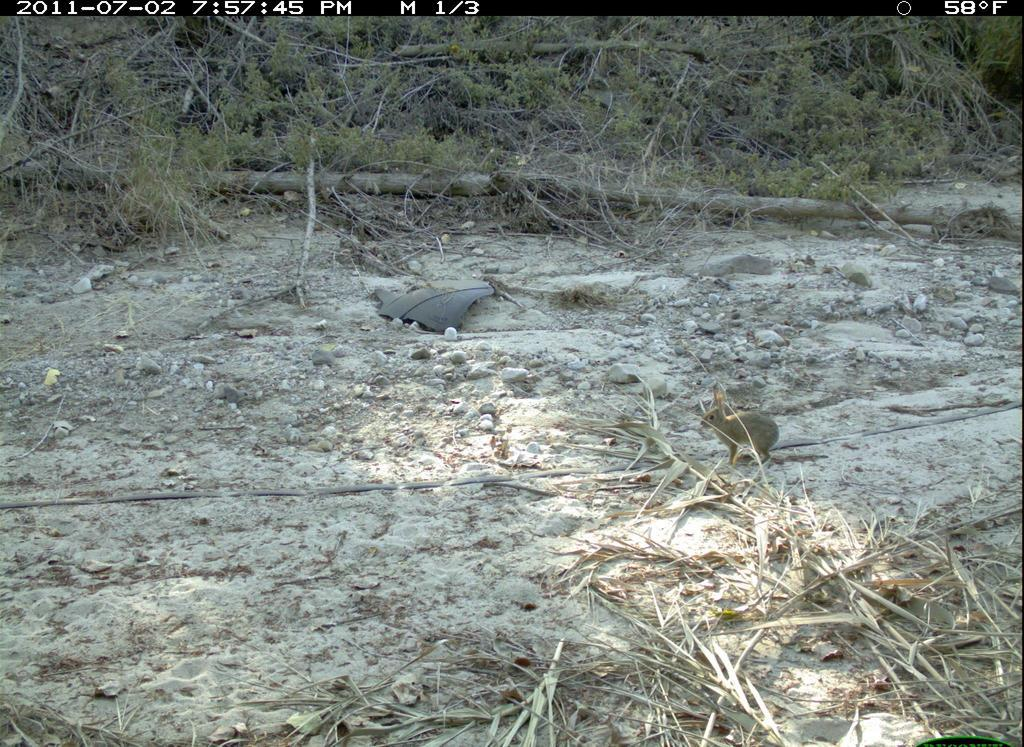rabbit: (696, 381, 785, 473)
